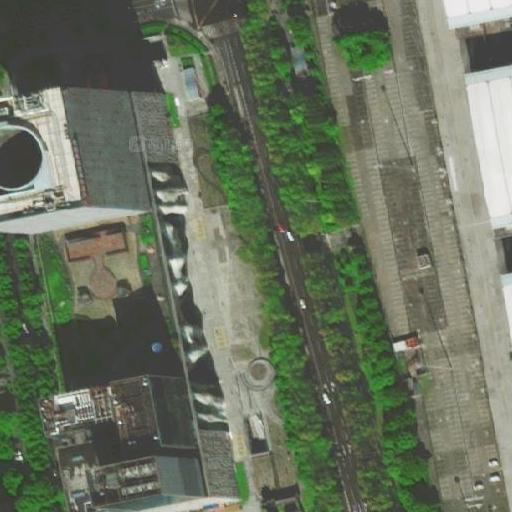building: (44, 218, 208, 391), (113, 378, 239, 512), (35, 133, 144, 221), (466, 69, 511, 237)
